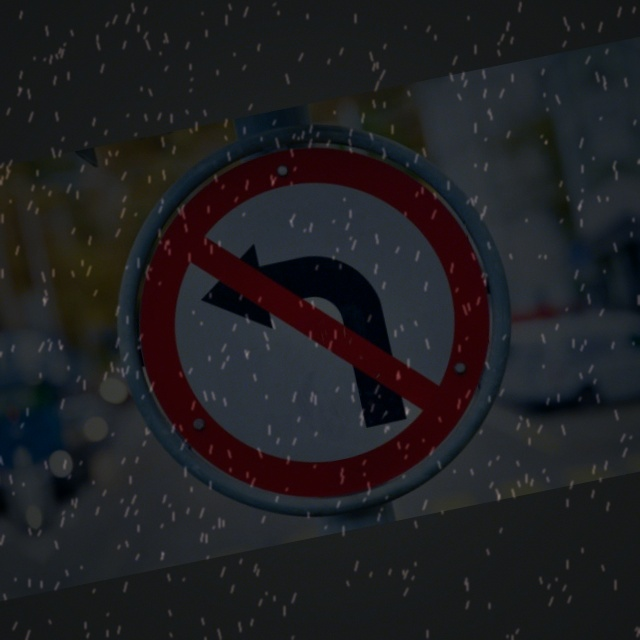Left_Turn_Prohibited: (84, 90, 544, 543)
